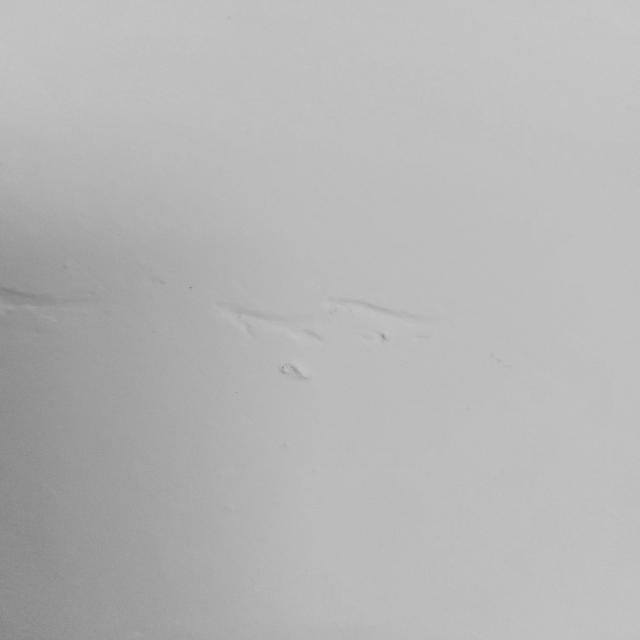rough and patchy surface: (9, 266, 472, 398)
